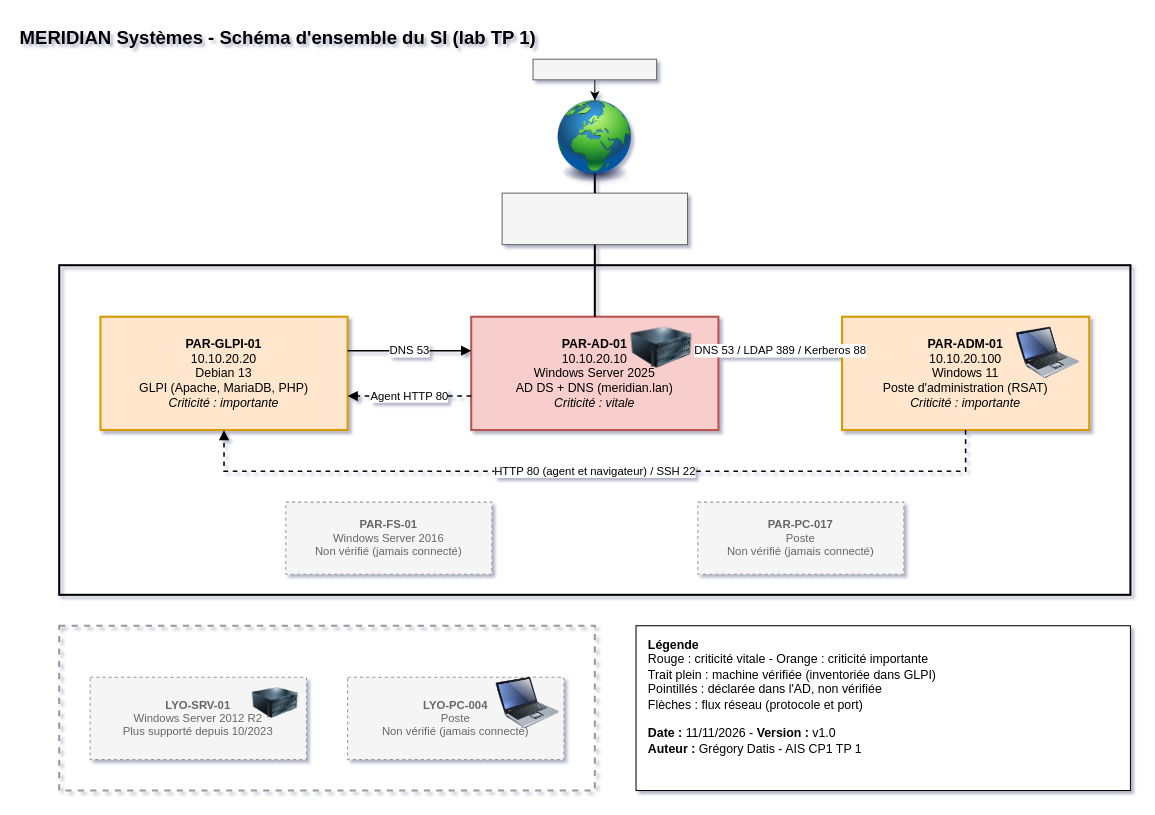
Some shapes in this 1155 by 815 pixel diagram are drawn without their labels. The shapes that lost their labels are listed below. From the top down, each one's box as (x1, y1, x2, y2) in pixels, then its label:
(532, 58, 657, 80): Internet
(501, 192, 688, 245): Passerelle NAT VMware VMnet8 - 10.10.20.2
(58, 264, 1131, 595): Site Paris - Réseau MERIDIAN 10.10.20.0/24 (DHCP désactivé, DNS 10.10.20.10)
(58, 624, 595, 791): Site Lyon (déclaré dans l'AD, non vérifié)
